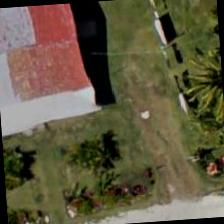Kelapa_Sawit: (165, 32, 223, 127)
